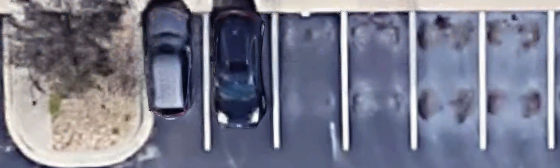Occupied: (206, 11, 277, 149), (144, 11, 207, 151)
Vacant: (276, 11, 345, 150), (414, 12, 483, 149), (482, 11, 551, 148), (345, 12, 413, 149)
